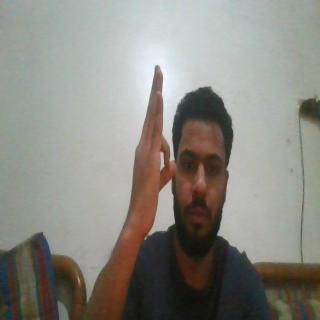Space: (125, 58, 176, 236)
